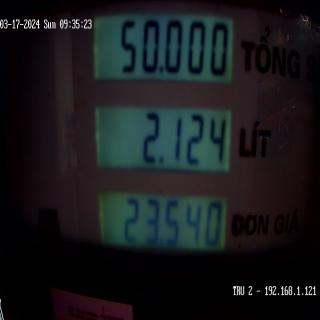screen: (89, 2, 239, 286)
